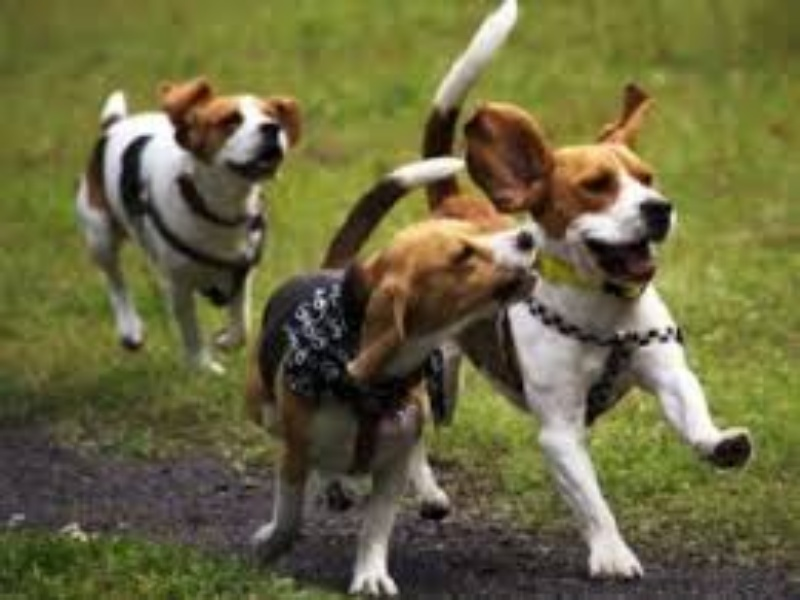dog: (253, 201, 545, 593), (75, 75, 302, 385)
